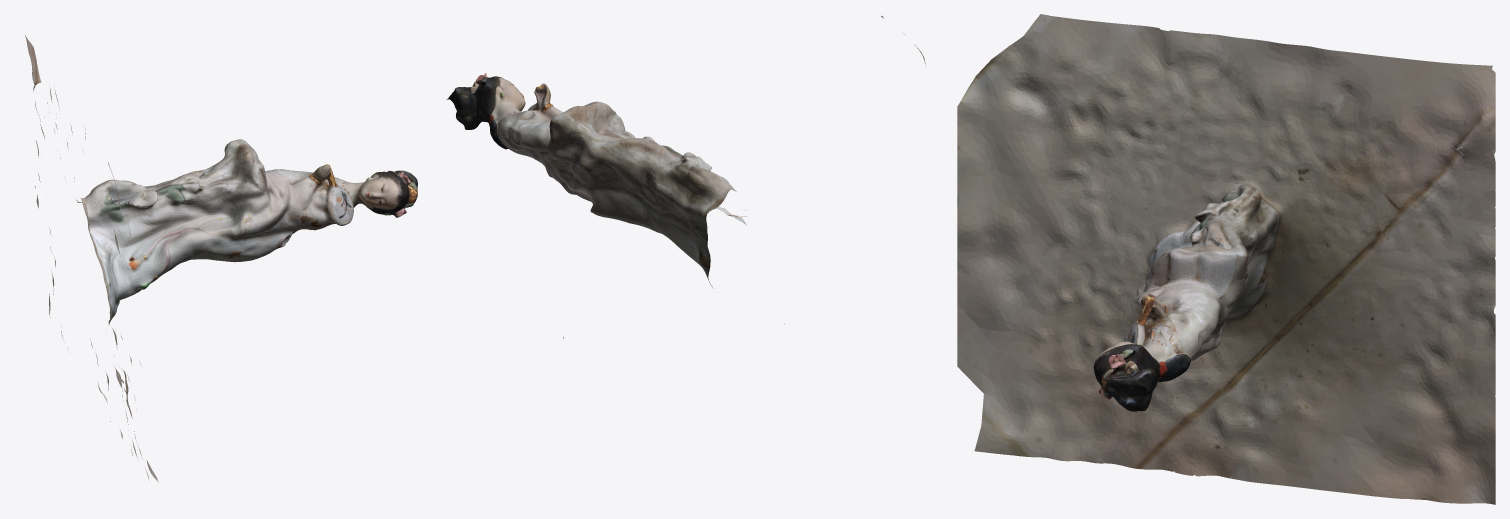
Rendered from asset.glb.
3 views of the same model, side by side, from view 1: azimuth 30°, elevation 25°; view 2: azimuth 150°, elevation 25°; view 3: azimuth 270°, elevation 25° (orthographic). The views are drawn at different scales.
Bounding box in the file's own units: 1.83 × 1.64 × 1.92.
1 material, 1 textured.
